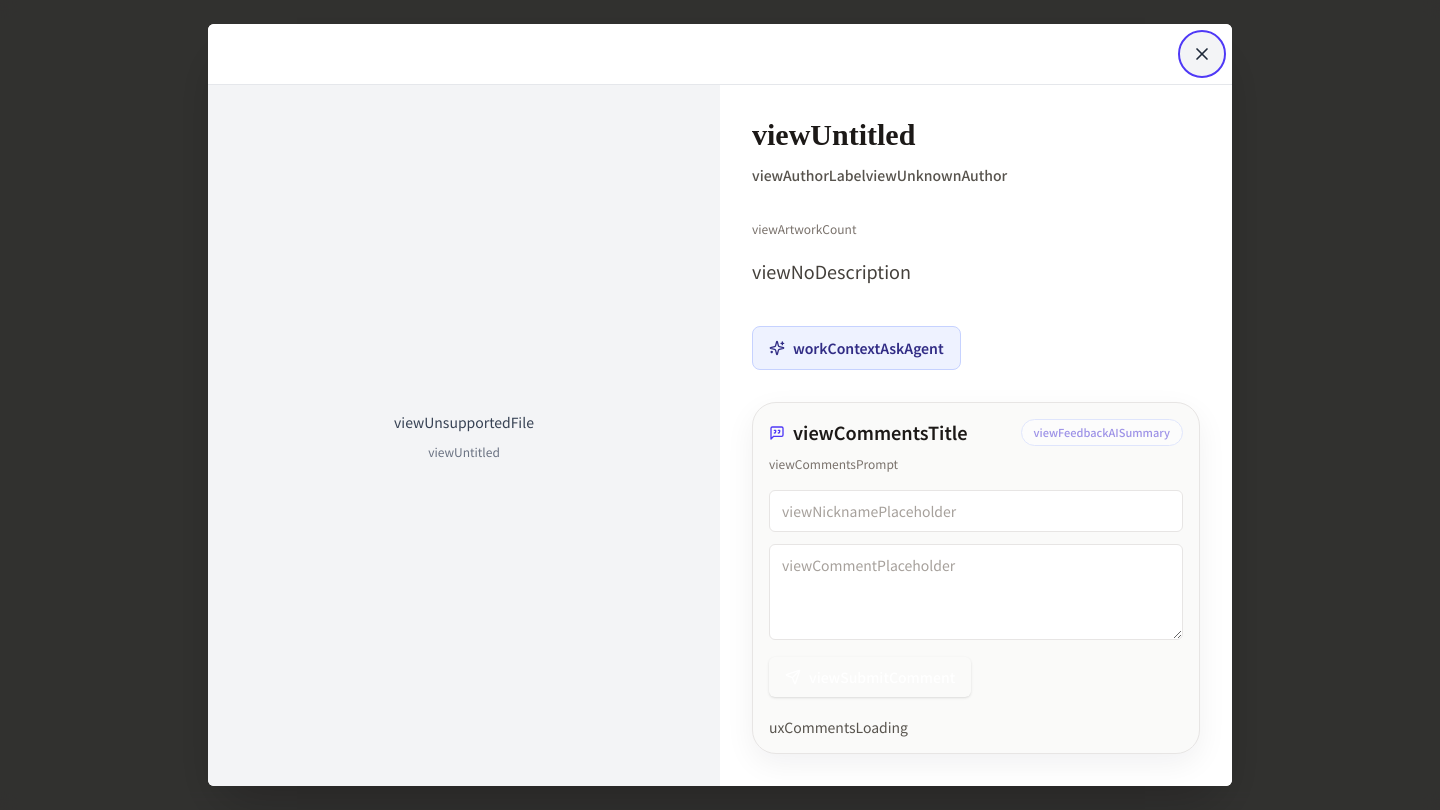
Test case: ViewUI › distinguishes failed reads from empty comments and retries without losing the draft
The width and height of the screenshot is (1440, 810).
expect the text "uxCommentsLoading" is shown: met, box [769, 717, 908, 737]
expect the text "viewNoComments" is not shown: met
In the text box labelled "viewCommentPlaceholder": [976, 592] box [769, 544, 1183, 640], type "Keep this draft"
(page scrolled)
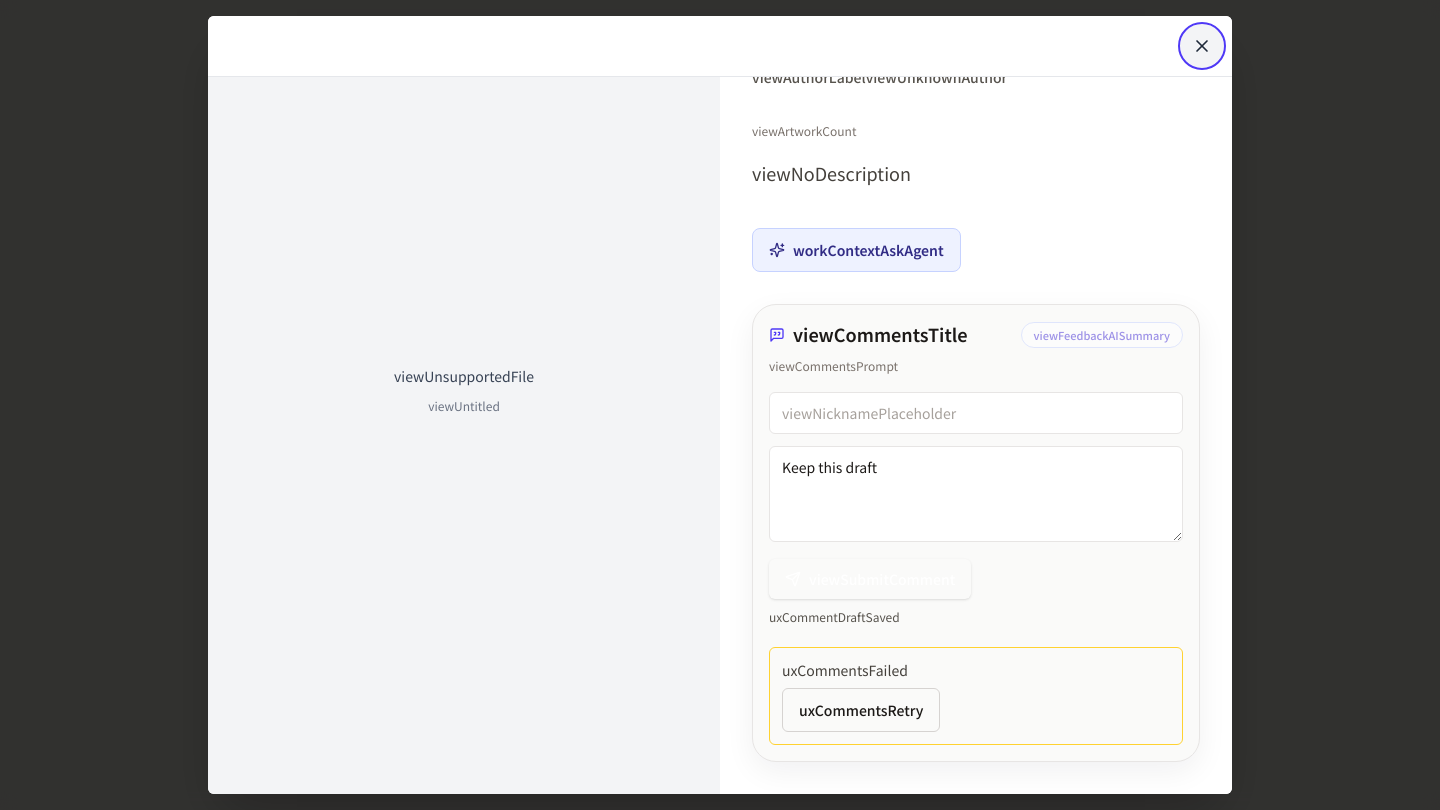
expect the text "viewNoComments" is not shown: met
expect the text "uxCommentsFailed" is shown: met, box [782, 660, 908, 680]
Click the button "uxCommentsRetry": [861, 710] box [782, 688, 940, 732]
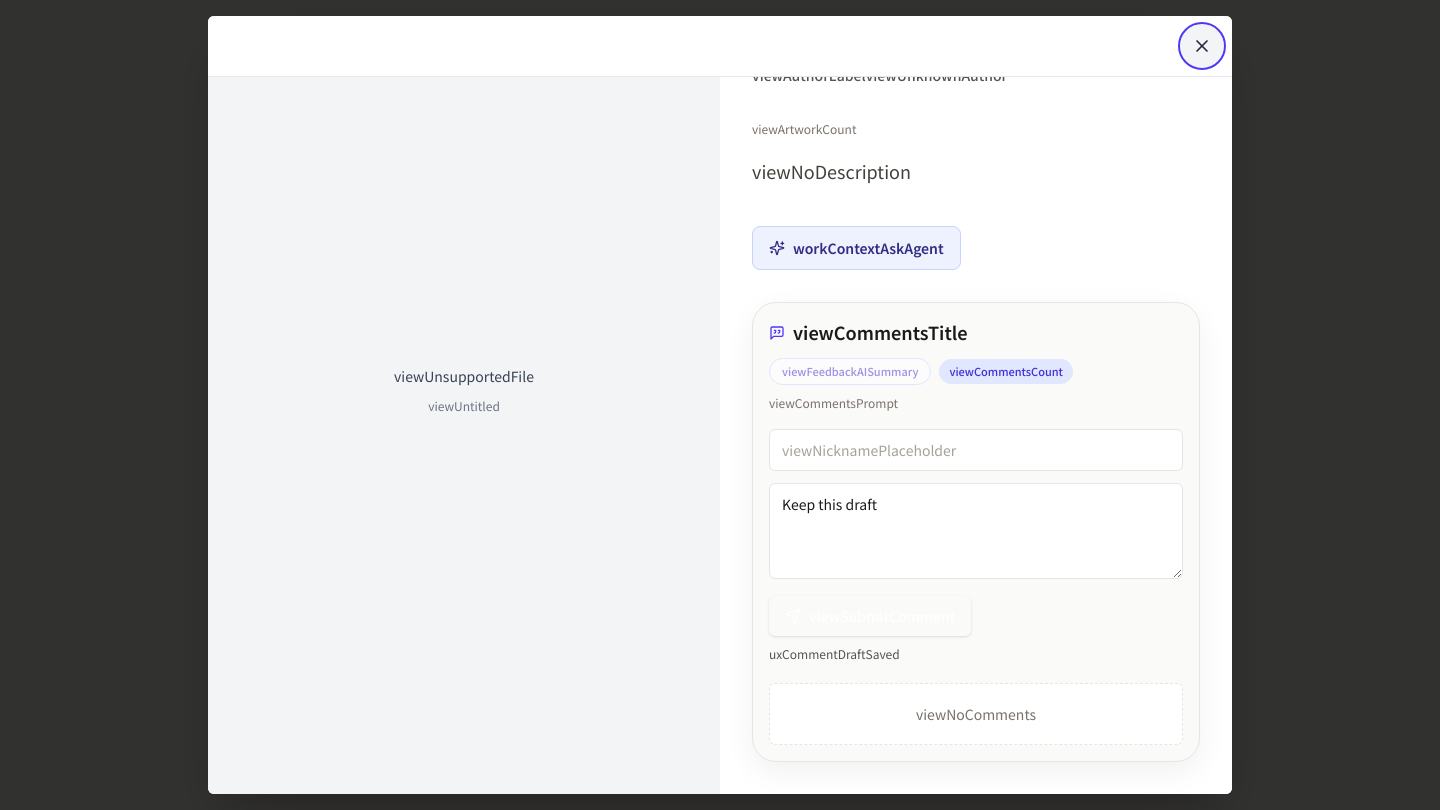
expect the text "viewNoComments" is shown: met, box [769, 683, 1183, 745]
